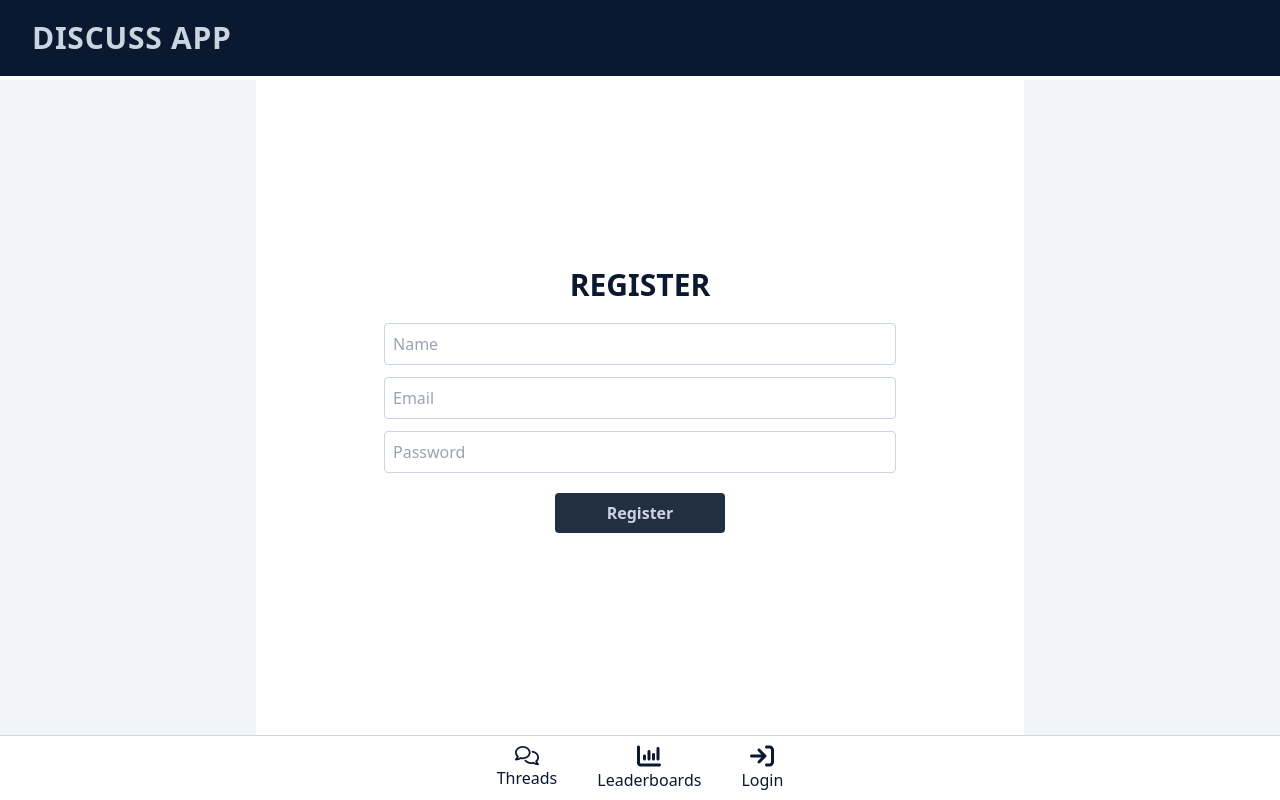
Scenario: Register spec › should display invalid elemen when input name no match with pattern
The image size is (1280, 800).
Type "name" into the field with placeholder "Name" at [640, 344], box 384,323 -> 896,365
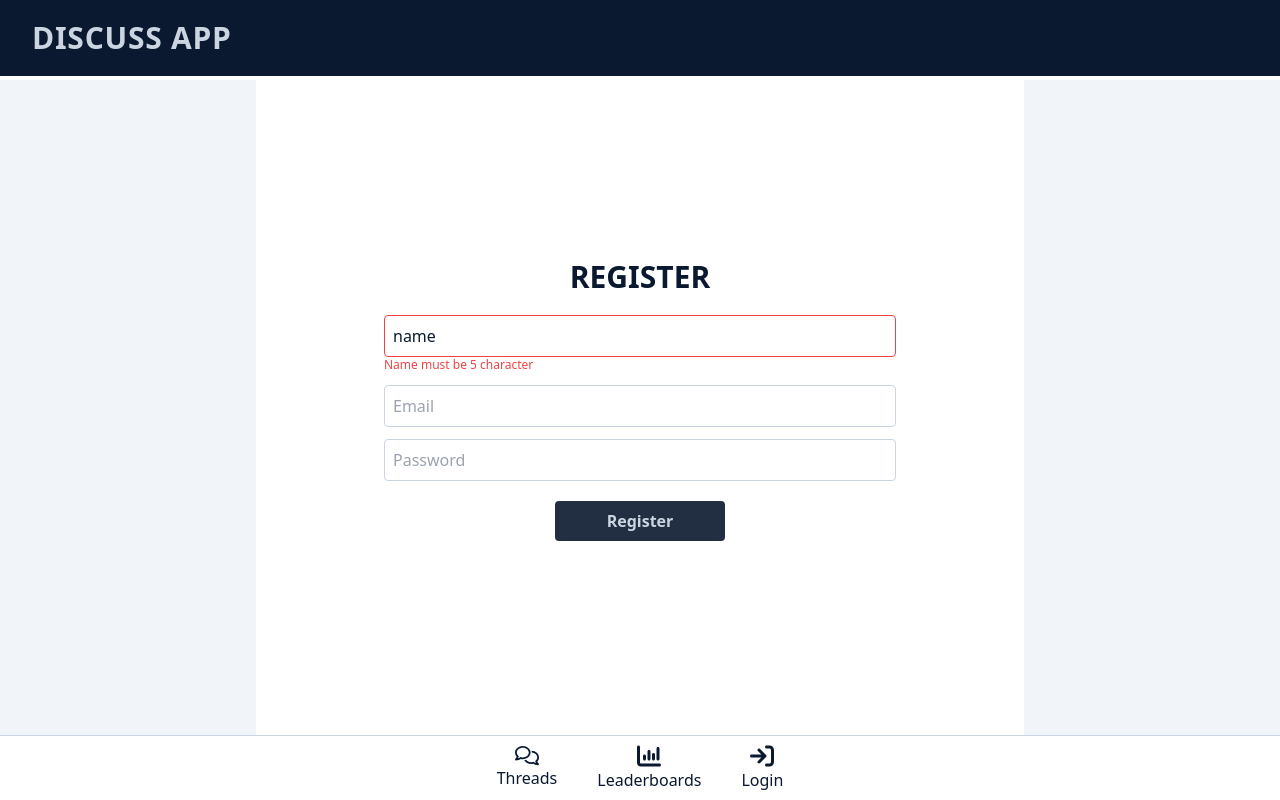
Check: the text "Name must be 5 character" is shown, box 384,356 -> 533,373
